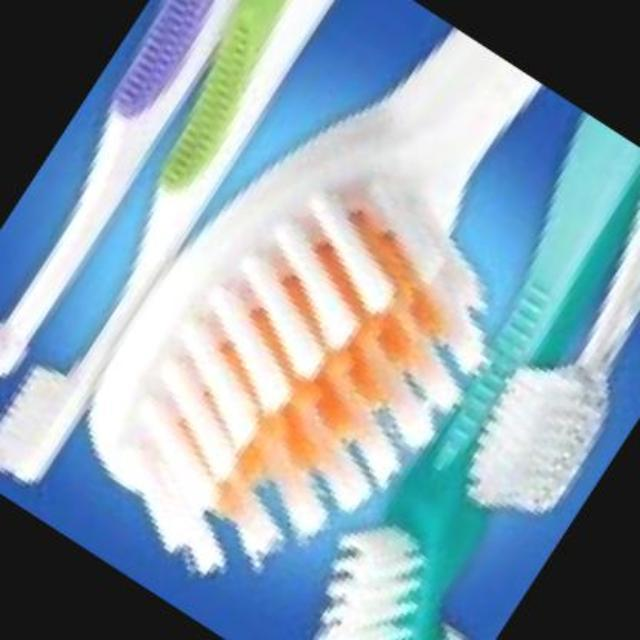toothbrush: (22, 0, 614, 638)
